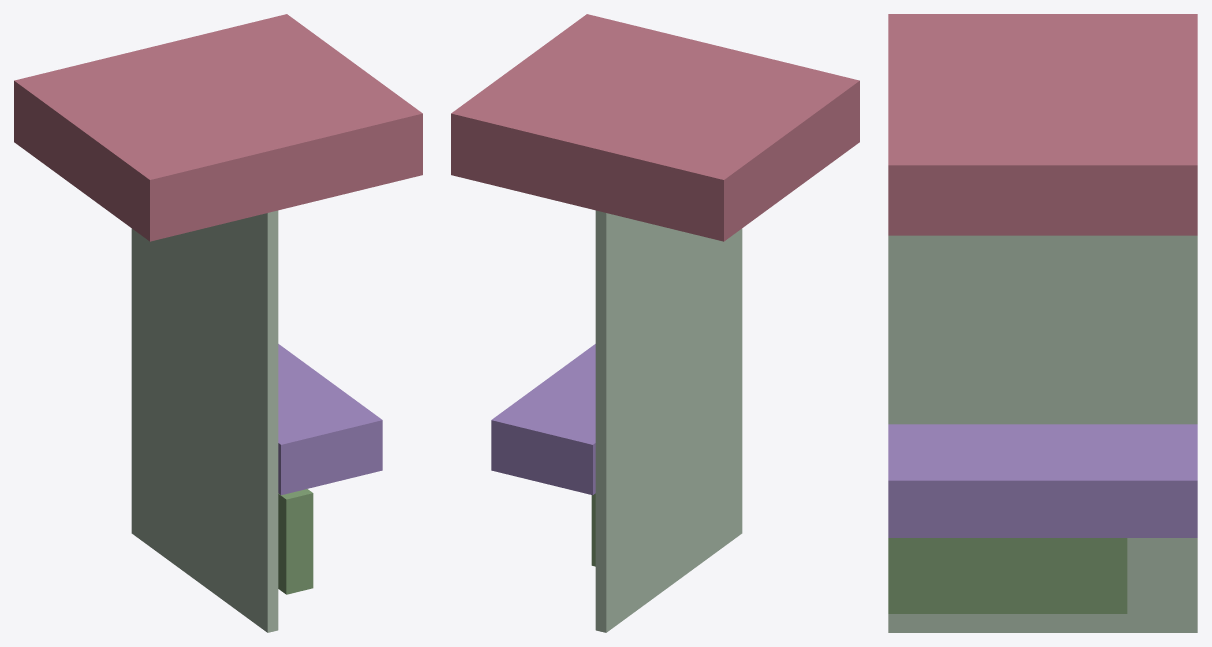
3 renders of one model, left to right at view 1: azimuth 30°, elevation 25°; view 2: azimuth 150°, elevation 25°; view 3: azimuth 270°, elevation 25°, orthographic. The views are drawn at different scales.
Visible parts, largest first — view 1: world; view 2: world; view 3: world.
Part boxes in pixels (x1=…): world: x1=14, y1=14, x2=422, y2=632; world: x1=451, y1=14, x2=859, y2=632; world: x1=888, y1=14, x2=1197, y2=632.
Bounding box in the file's own units: 5.1 × 8.6 × 4.4.
